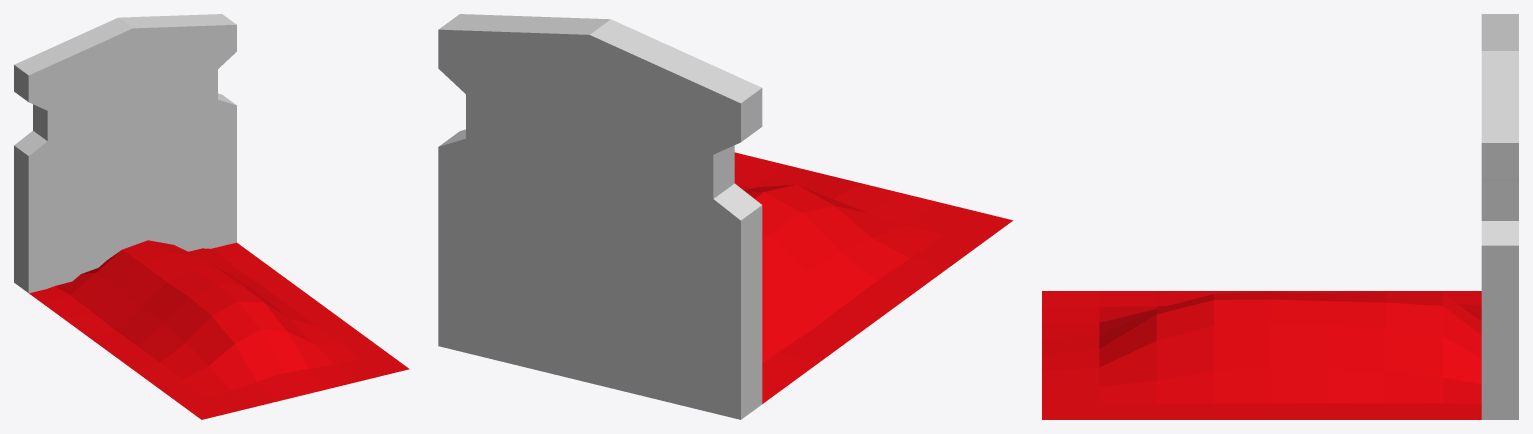
File: Grave_02.fbx
3 views of the same model, side by side, from view 1: azimuth 30°, elevation 25°; view 2: azimuth 150°, elevation 25°; view 3: azimuth 270°, elevation 25° (orthographic). The views are drawn at different scales.
Visible parts, largest first — view 1: Cube.005, Plane.007; view 2: Cube.005, Plane.007; view 3: Plane.007, Cube.005.
Part boxes in pixels (<box>): Cube.005: <box>14,14,236,293</box>; Plane.007: <box>29,240,409,419</box>; Cube.005: <box>438,14,762,419</box>; Plane.007: <box>734,152,1012,403</box>; Plane.007: <box>1042,291,1481,419</box>; Cube.005: <box>1481,14,1518,419</box>.
Bounding box in the file's own units: 2 × 2.2 × 3.12.
